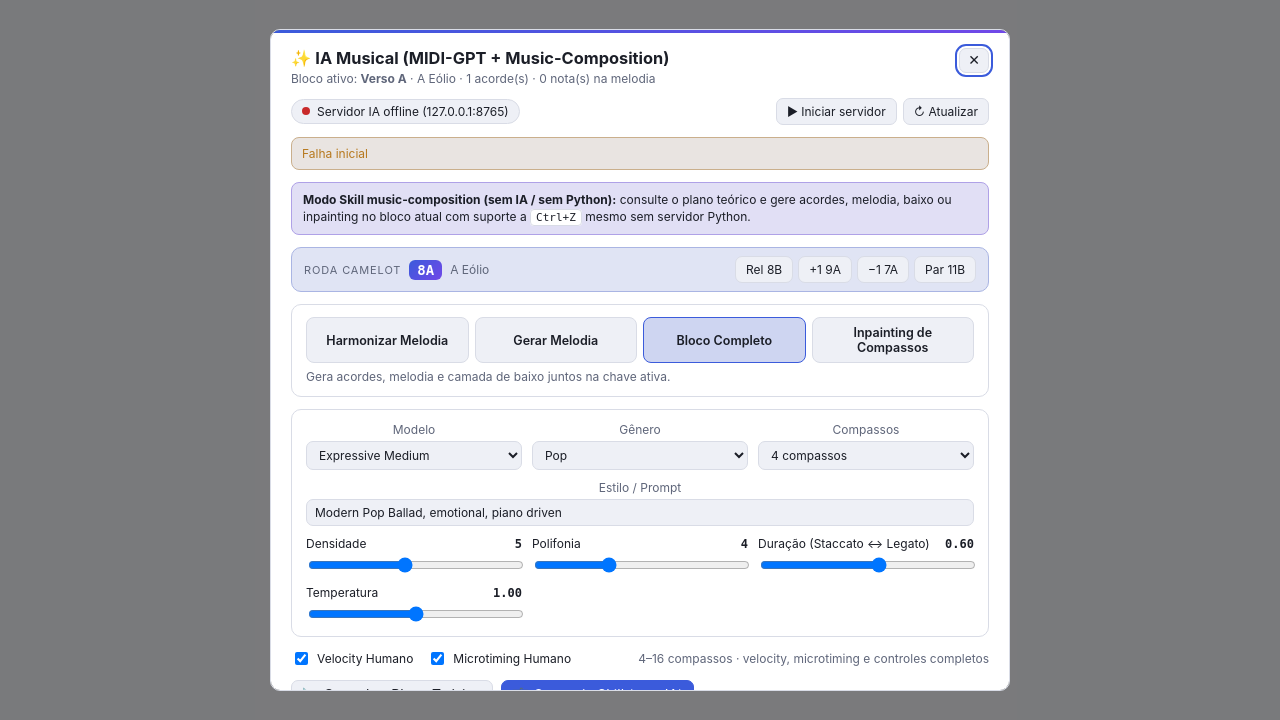
it: AIPanel & integração com Header/TopBar/Store › trata clique manual em Iniciar servidor quando missingPython/missingDeps é retornado e oferece Modo Skill
This screenshot has width=1280, height=720.
Click the button "▶ Iniciar servidor".
click(836, 111)  # box [776, 98, 897, 125]
(page scrolled)
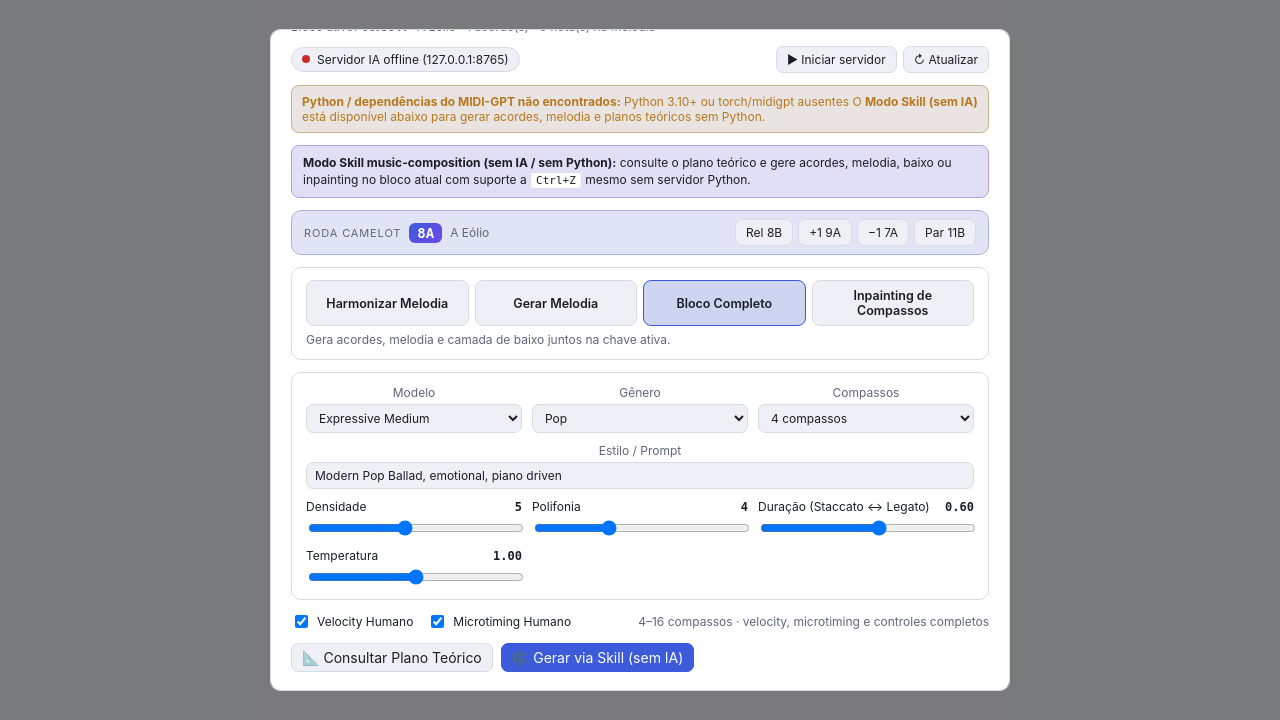
Expected: the element named "Modo Skill sem IA" is shown, [291, 145, 989, 198]
Expected: the text "Python / dependências do MIDI-GPT não encontrados:" is shown, [302, 94, 621, 109]
